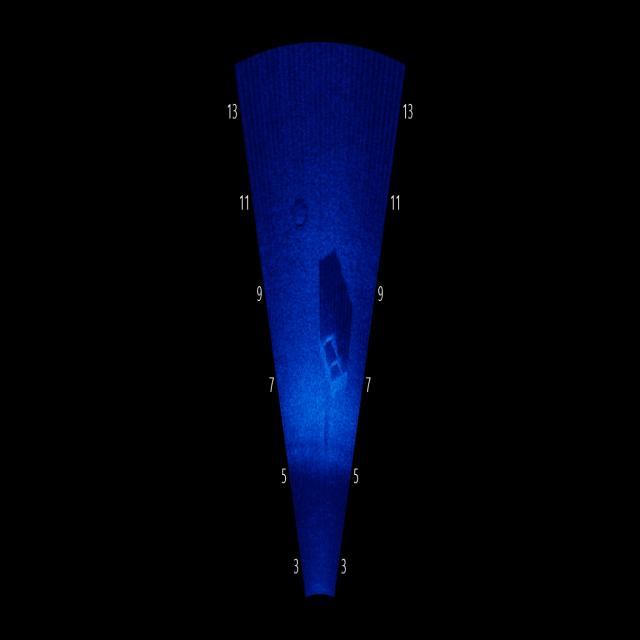square: (318, 325, 349, 393)
